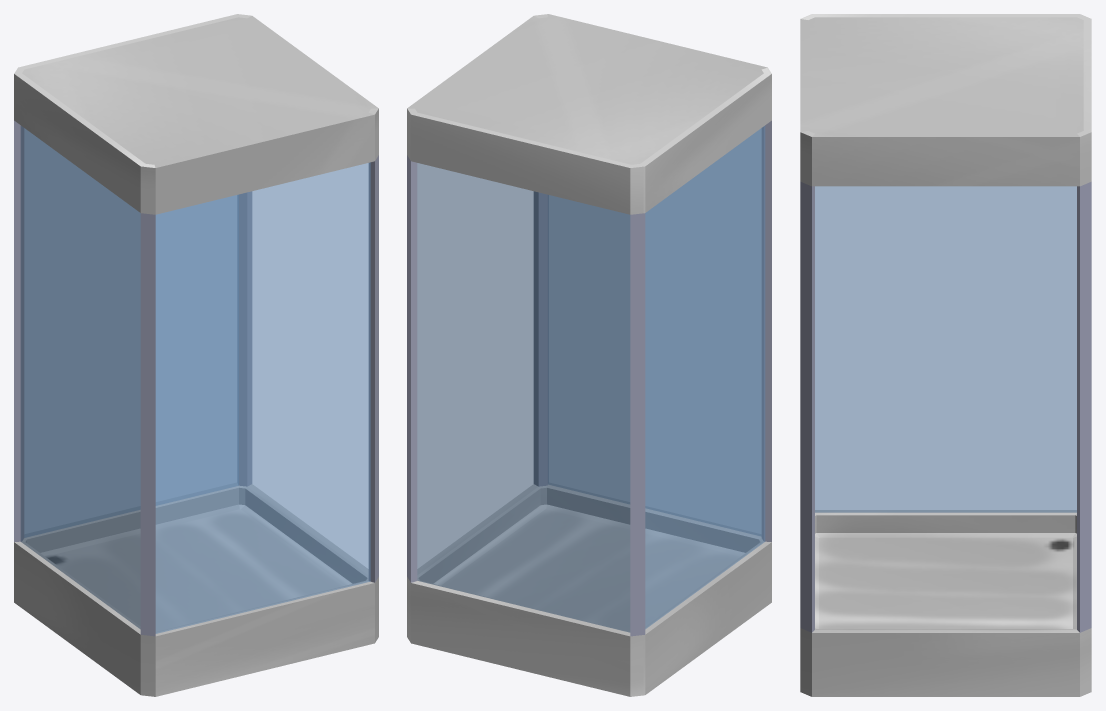
The model's file is shower.glb.
3 views of the same model, side by side, from view 1: azimuth 30°, elevation 25°; view 2: azimuth 150°, elevation 25°; view 3: azimuth 270°, elevation 25° (orthographic). The views are drawn at different scales.
Parts seen in each view (by area): view 1: Cube, Plane.002, Plane, Plane.001; view 2: Cube, Plane, Plane.002, Plane.001; view 3: Cube, Plane.001.
Boxes of the visible parts, x1,y1,x2,y2 form: Cube: (14, 14, 378, 696); Plane.002: (155, 162, 370, 633); Plane: (24, 129, 238, 537); Plane.001: (20, 126, 140, 628); Cube: (407, 14, 771, 696); Plane: (417, 163, 630, 632); Plane.002: (548, 129, 761, 535); Plane.001: (645, 126, 765, 628); Cube: (800, 14, 1091, 696); Plane.001: (815, 186, 1076, 512).
Bounding box in the file's own units: 1.4 × 2.97 × 1.4.
Materials: 5 (2 with a texture image).
